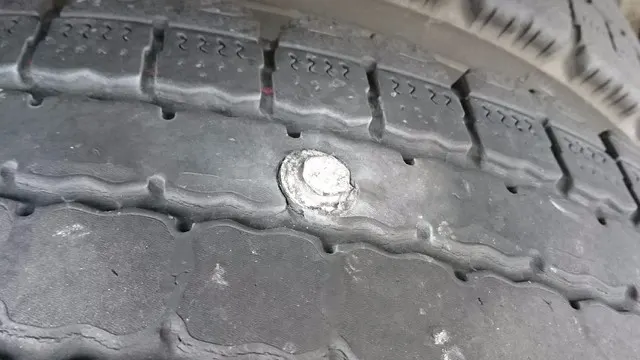person: (274, 130, 362, 235)
